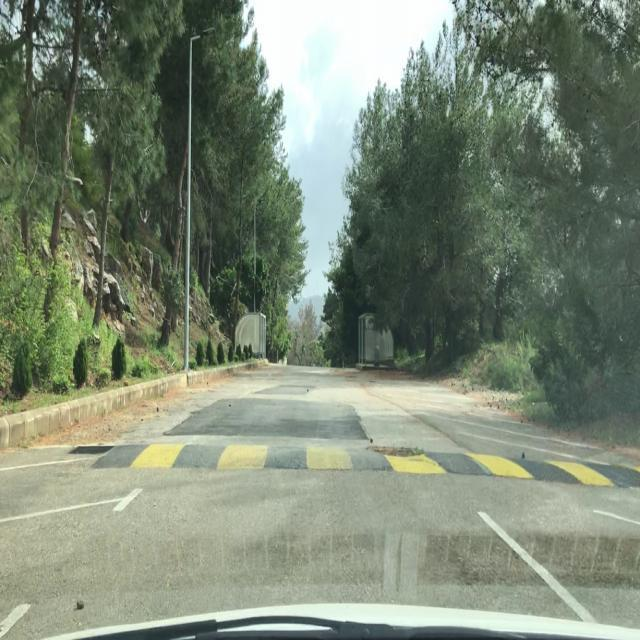Buraco: (363, 445, 428, 459)
